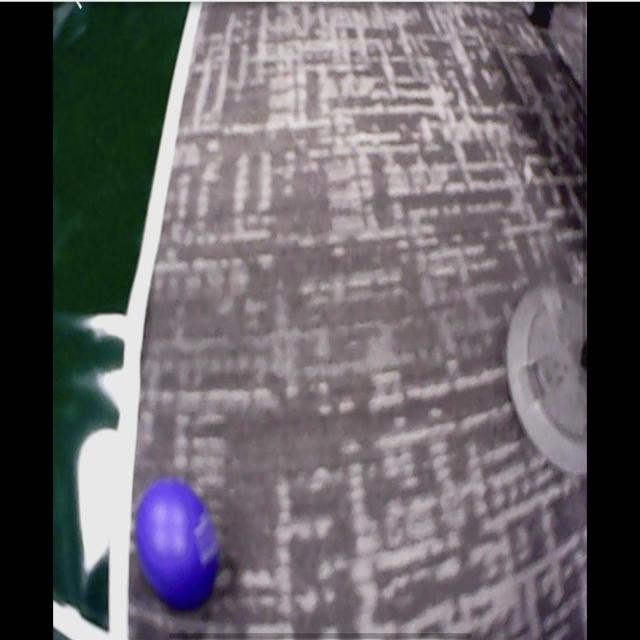ball: (138, 481, 221, 614)
